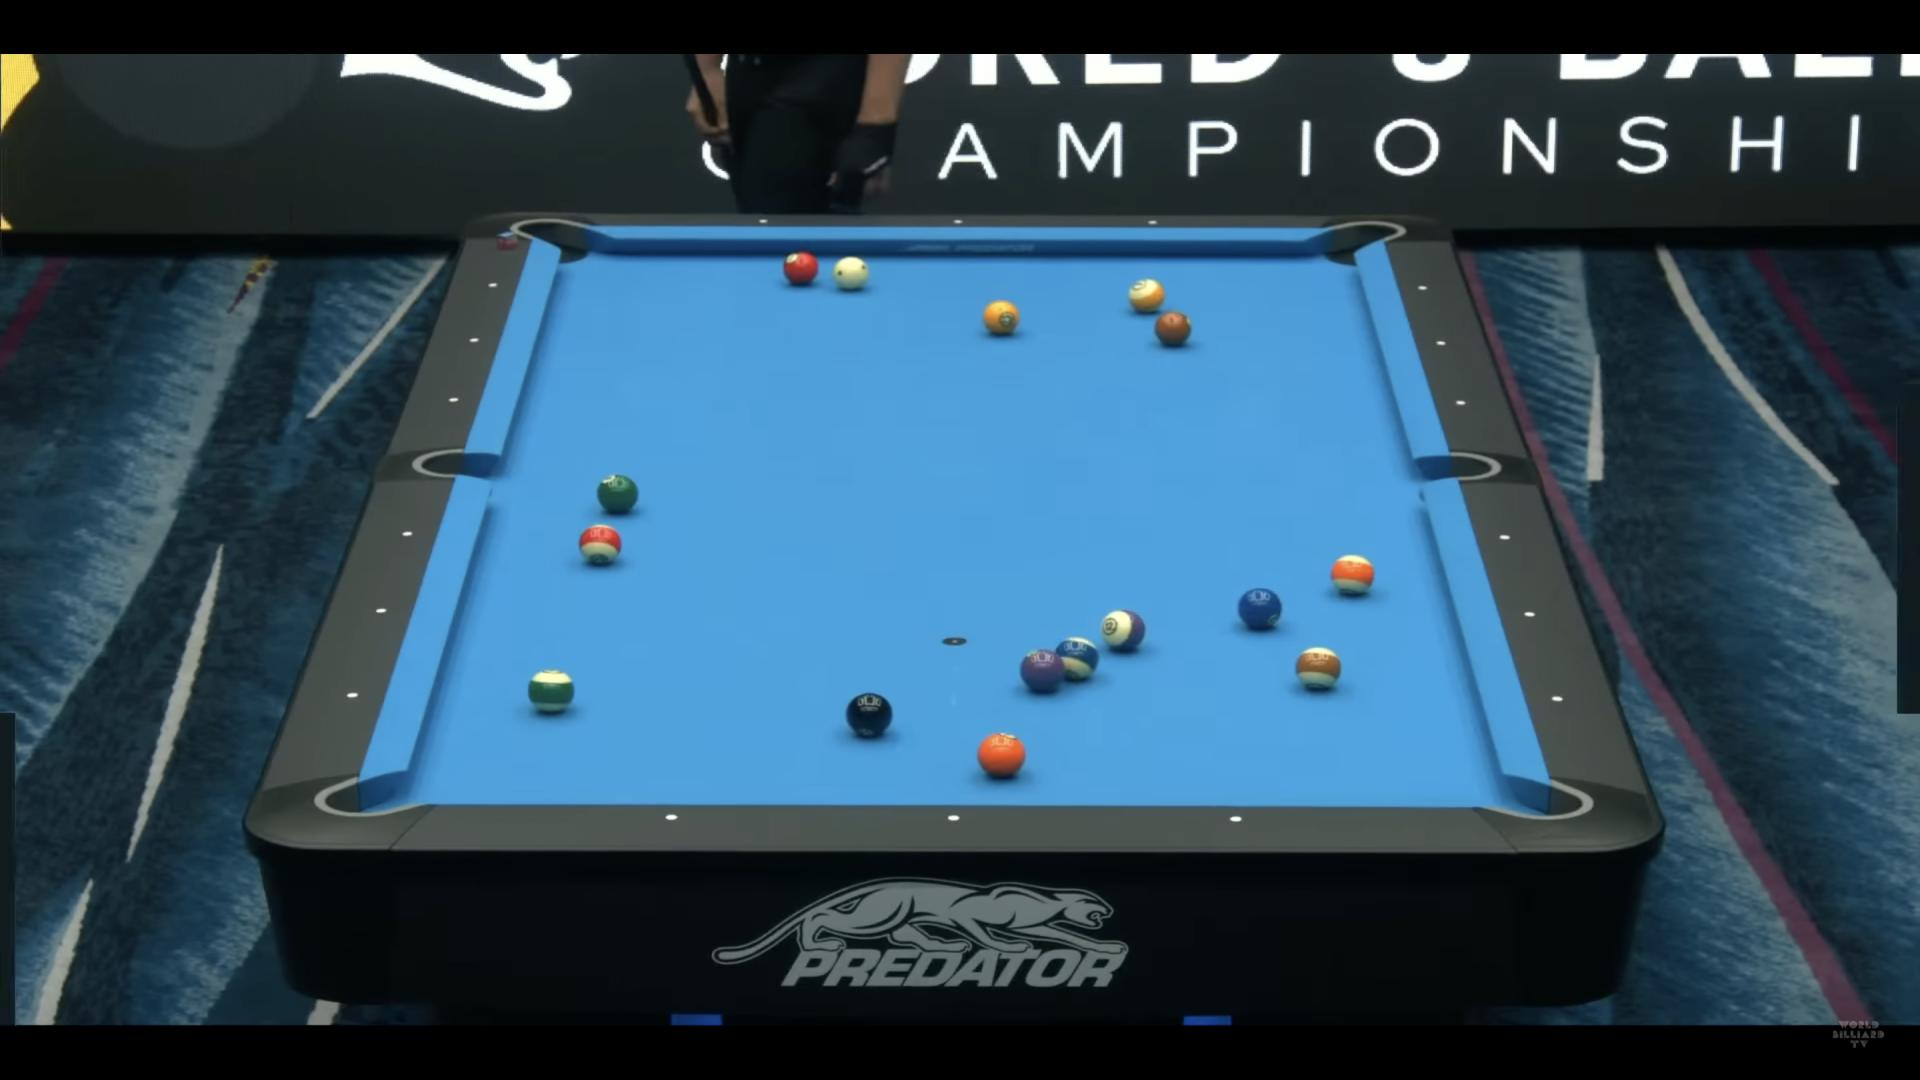Black: (845, 694, 894, 737)
Cue: (833, 257, 869, 290)
Dot: (1228, 811, 1245, 827), (662, 811, 679, 825), (945, 811, 963, 825), (1524, 608, 1536, 620), (345, 690, 357, 702), (402, 529, 414, 541), (1551, 694, 1563, 704), (1498, 534, 1510, 545), (1147, 218, 1159, 228), (952, 216, 964, 227), (758, 216, 770, 227), (468, 335, 480, 345), (376, 605, 388, 616), (488, 280, 498, 290), (1456, 398, 1466, 407), (1418, 285, 1428, 294), (447, 396, 458, 405), (1436, 339, 1445, 348)
Solid: (977, 733, 1026, 777), (1019, 649, 1067, 691), (1237, 588, 1283, 629), (597, 475, 640, 514), (1154, 311, 1192, 348), (982, 301, 1019, 335), (783, 252, 819, 285)
Striped: (1295, 647, 1342, 691), (527, 670, 575, 713), (1055, 637, 1098, 680), (1331, 554, 1375, 596), (1100, 609, 1145, 650), (579, 525, 622, 566), (1127, 278, 1164, 313)
